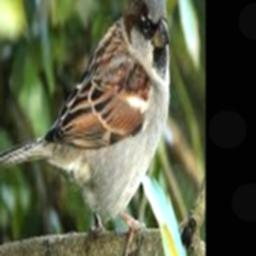Sparrow: (0, 0, 169, 256)
